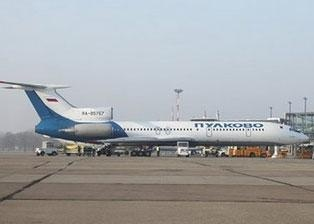airplane: (1, 89, 313, 155)
